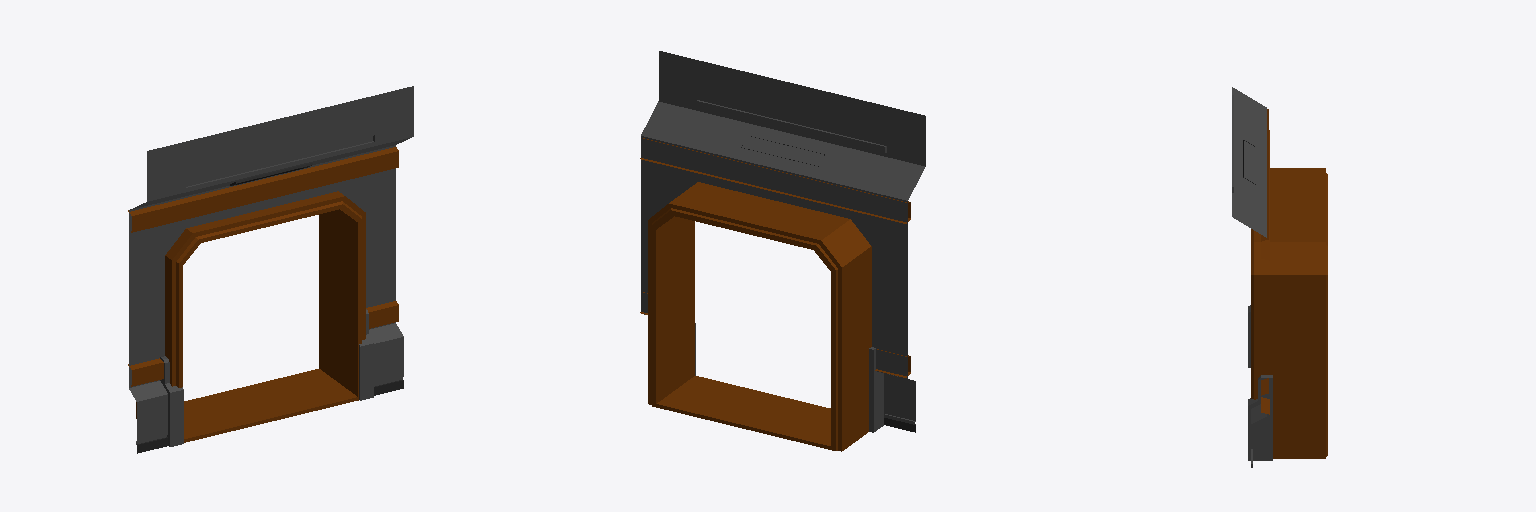
The model's file is DoorDouble_Wall_SideA.obj.
3 views of the same model, side by side, from view 1: azimuth 30°, elevation 25°; view 2: azimuth 150°, elevation 25°; view 3: azimuth 270°, elevation 25° (orthographic).
Parts seen in each view (by area): view 1: DoorDouble_Wall_SideA_Plane.312; view 2: DoorDouble_Wall_SideA_Plane.312; view 3: DoorDouble_Wall_SideA_Plane.312.
Boxes of the visible parts, box(x1,y1,x2,y2) form: DoorDouble_Wall_SideA_Plane.312: box(128, 86, 413, 453); DoorDouble_Wall_SideA_Plane.312: box(640, 51, 925, 451); DoorDouble_Wall_SideA_Plane.312: box(1232, 87, 1327, 467).
Size of the model in its own units: 4 by 4.44 by 1.25.